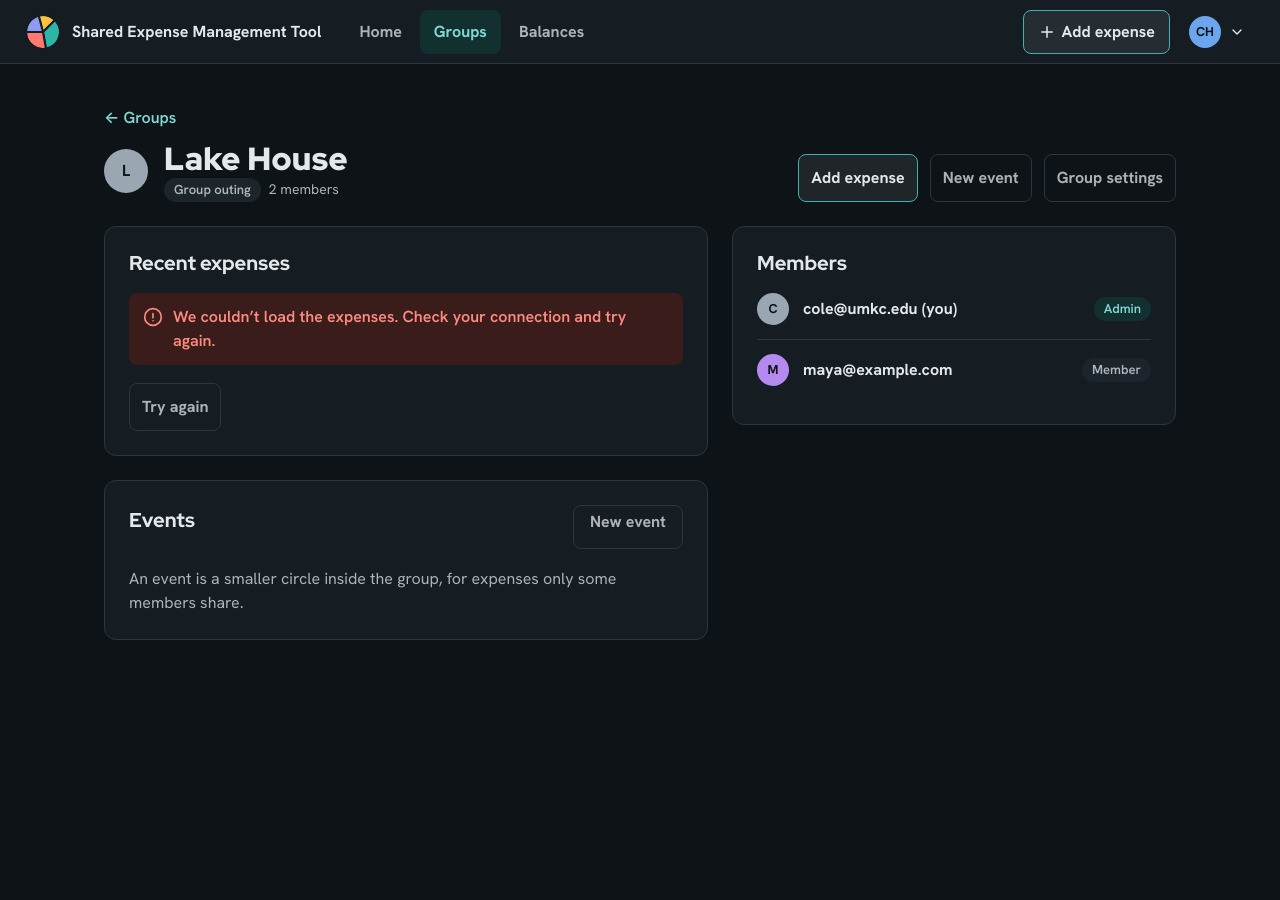
Test: Recent expenses card › offers Try again when the expenses cannot be loaded
The width and height of the screenshot is (1280, 900).
expect the heading "Recent expenses" is shown: met, box [129,250,290,276]
Click the button "Try again" at (175, 407), box [129,383,222,431]
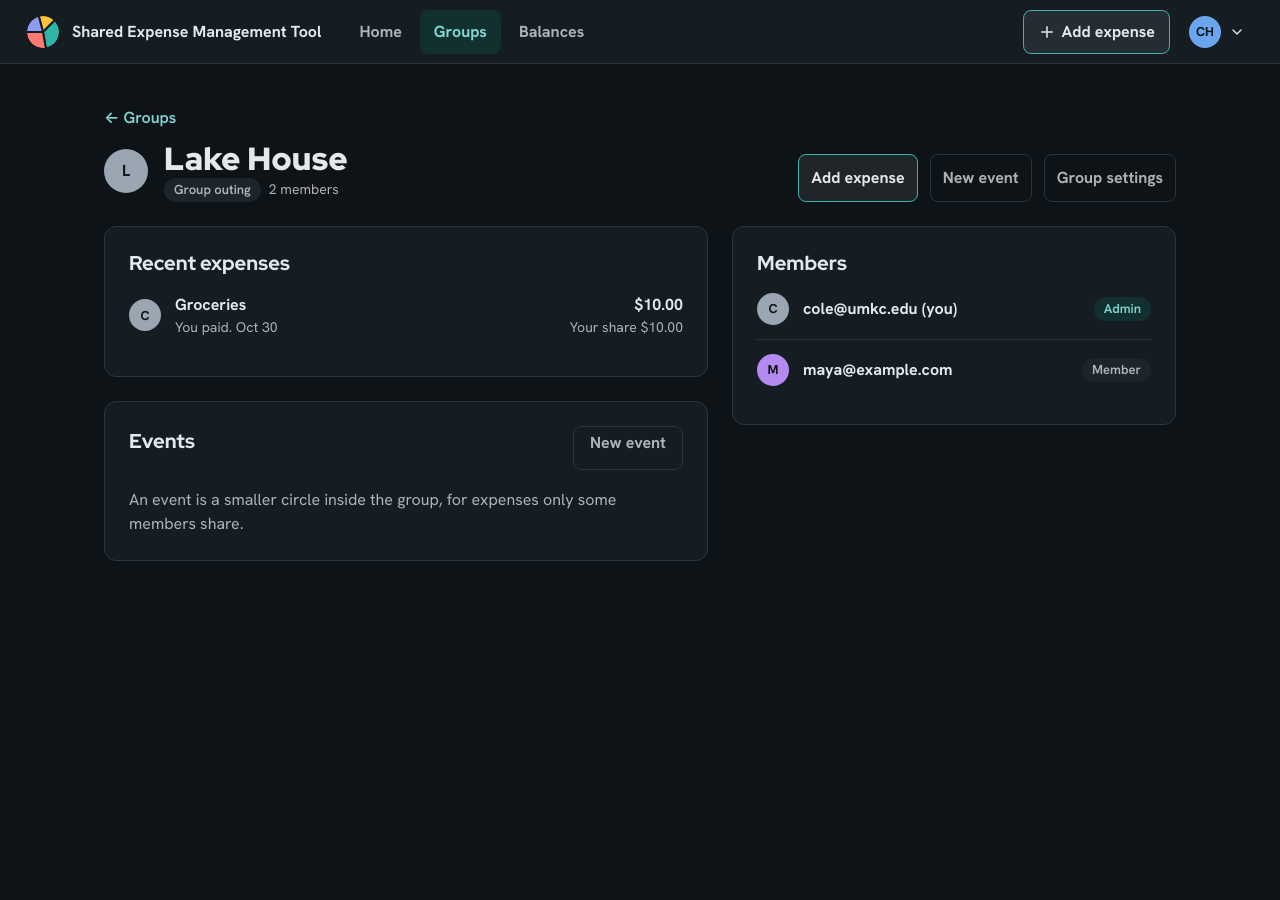
expect the text "Groceries" is shown: met, box [175,294,246,315]
